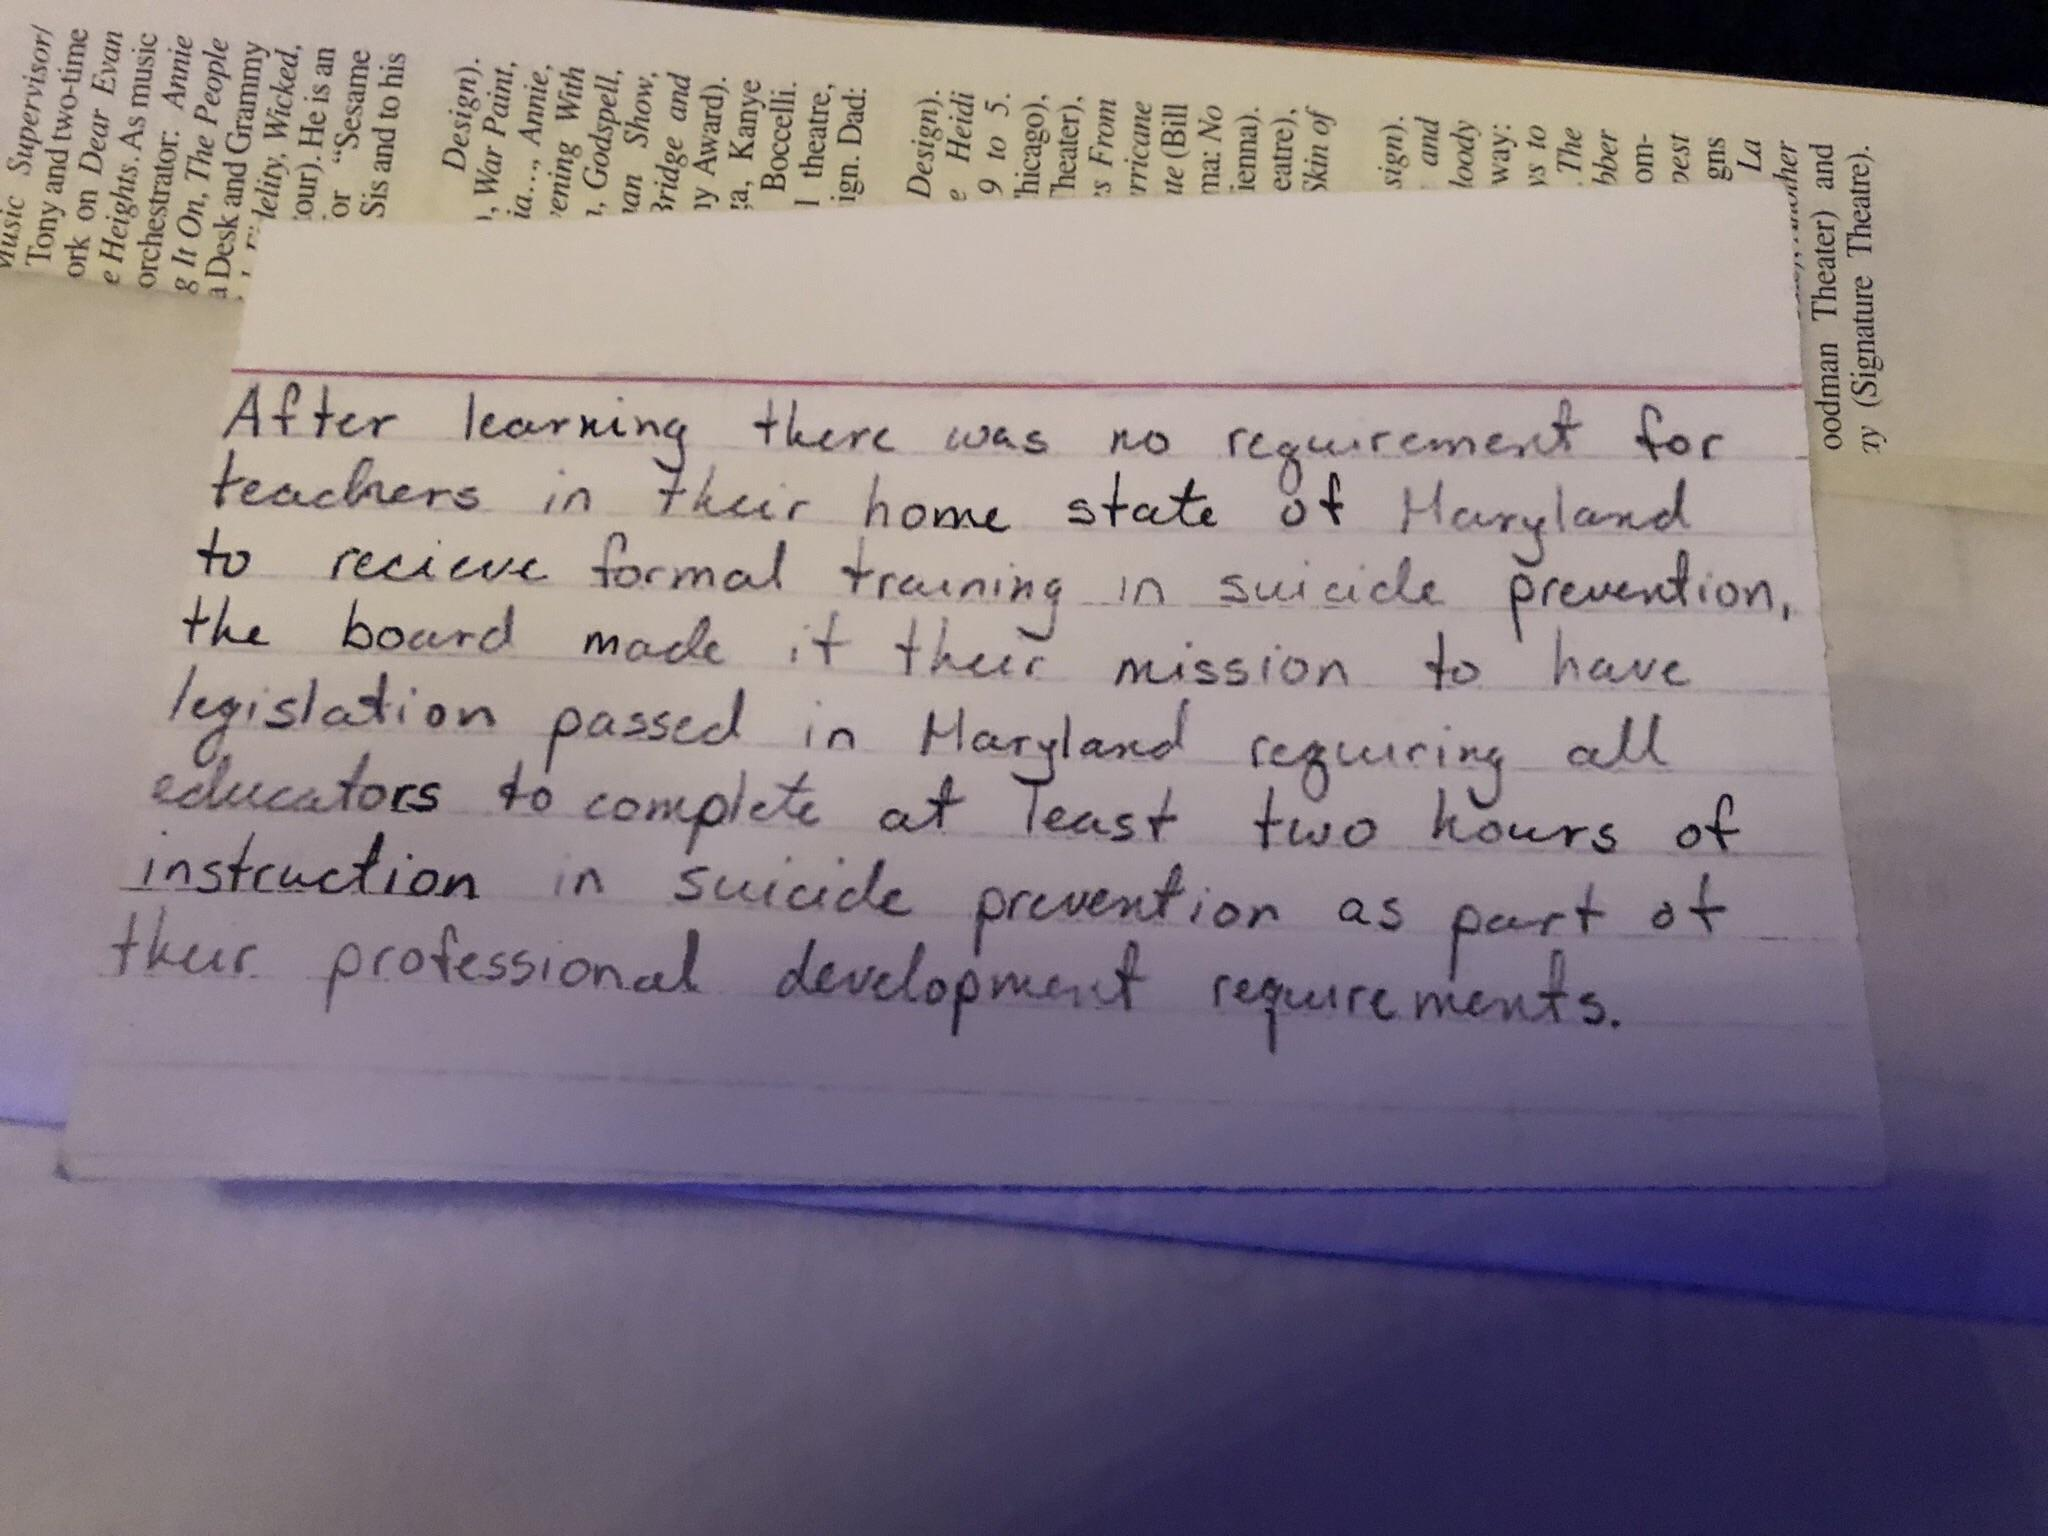Note: (32, 198, 1906, 1202)
